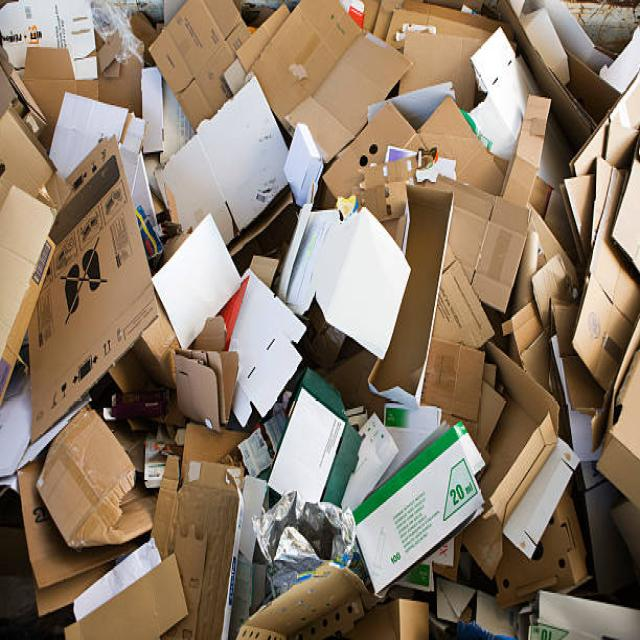electronic: (352, 419, 486, 596), (313, 205, 411, 361), (195, 74, 288, 234), (150, 212, 242, 350), (267, 384, 346, 505), (72, 537, 162, 621), (48, 90, 129, 180)
